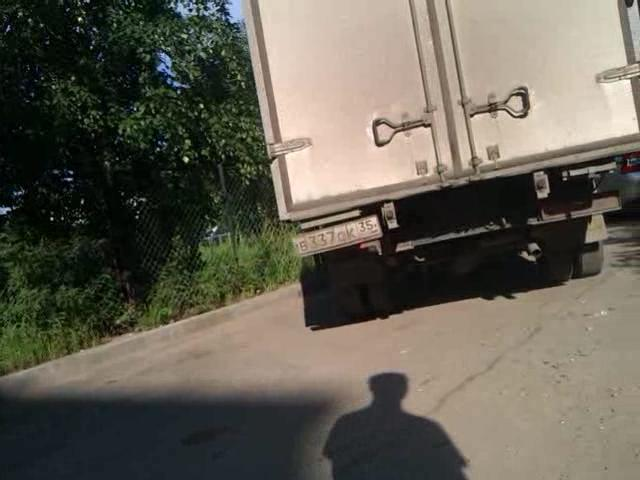car license plate: (293, 212, 382, 259)
